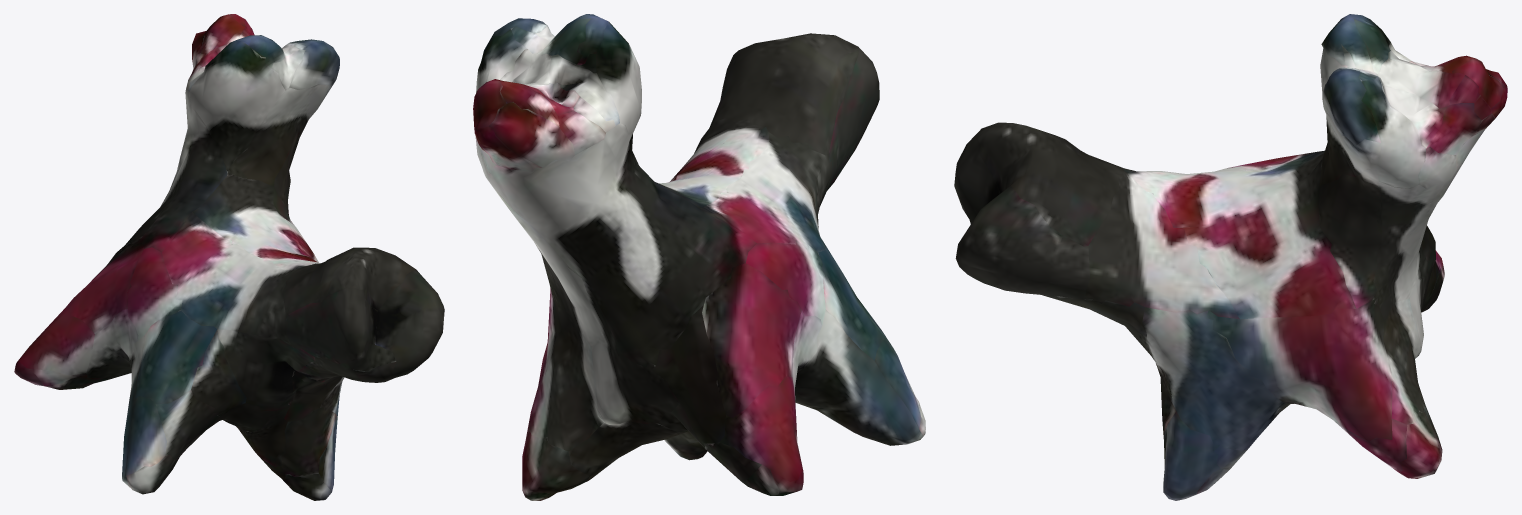
Rendered from hall.glb.
3 renders of one model, left to right at view 1: azimuth 30°, elevation 25°; view 2: azimuth 150°, elevation 25°; view 3: azimuth 270°, elevation 25°, orthographic. The views are drawn at different scales.
Size of the model in its own units: 0.3455 by 0.4595 by 0.4755.
1 material, 1 textured.
